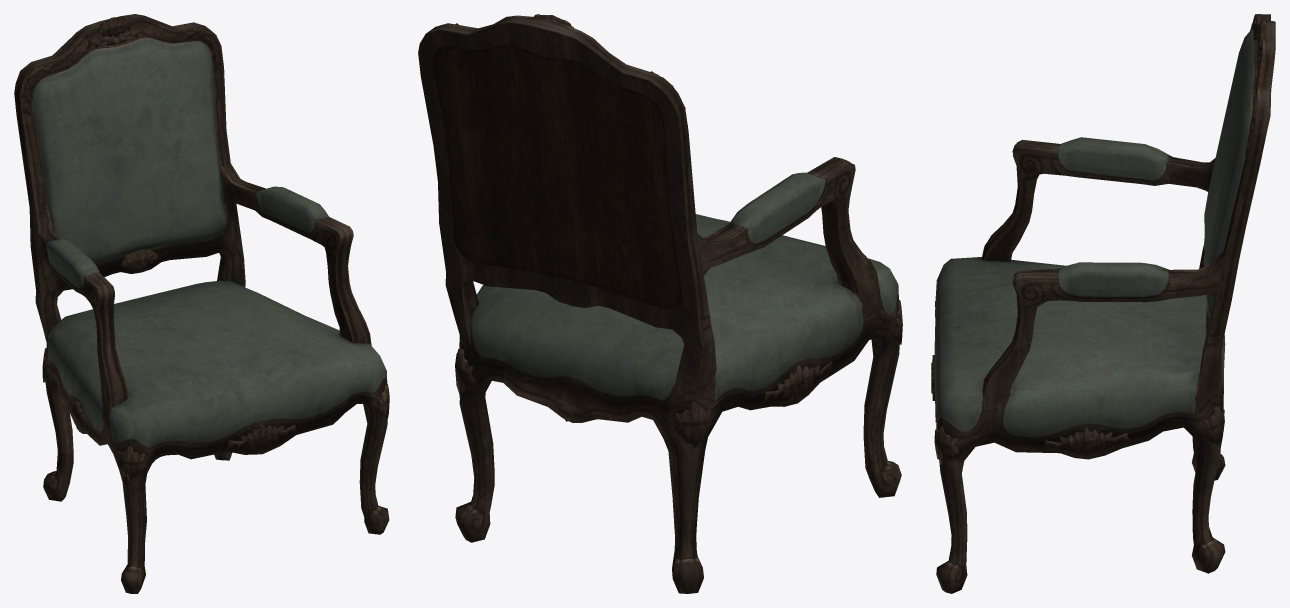
Rendered from GreenChair_01.glb.
3 renders of one model, left to right at view 1: azimuth 30°, elevation 25°; view 2: azimuth 150°, elevation 25°; view 3: azimuth 270°, elevation 25°, orthographic. The views are drawn at different scales.
Visible parts, largest first — view 1: GreenChair_01; view 2: GreenChair_01; view 3: GreenChair_01.
Part boxes in pixels (x1,y1,x2,y2): GreenChair_01: [14, 14, 389, 593]; GreenChair_01: [418, 14, 902, 593]; GreenChair_01: [931, 14, 1275, 593].
Bounding box in the file's own units: 0.6726 × 1.06 × 0.6644.
Materials: 1 (1 with a texture image).
